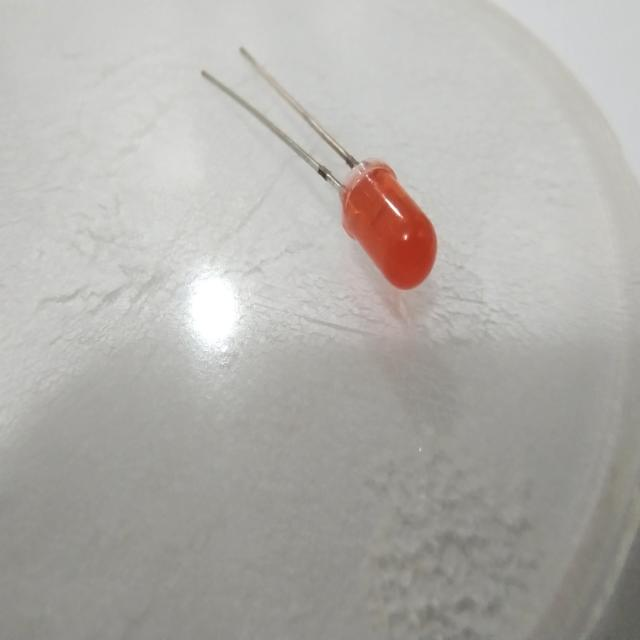red_led: (332, 152, 444, 304)
